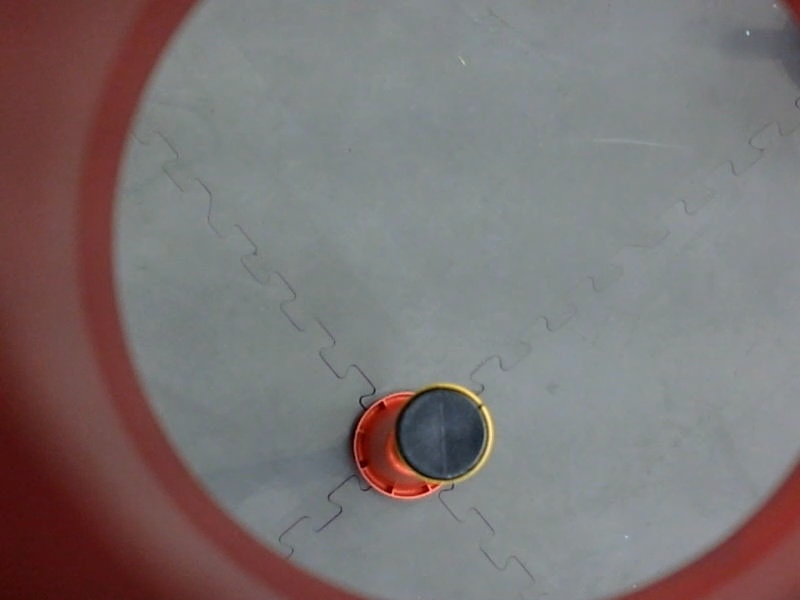tip: (390, 378, 497, 489)
